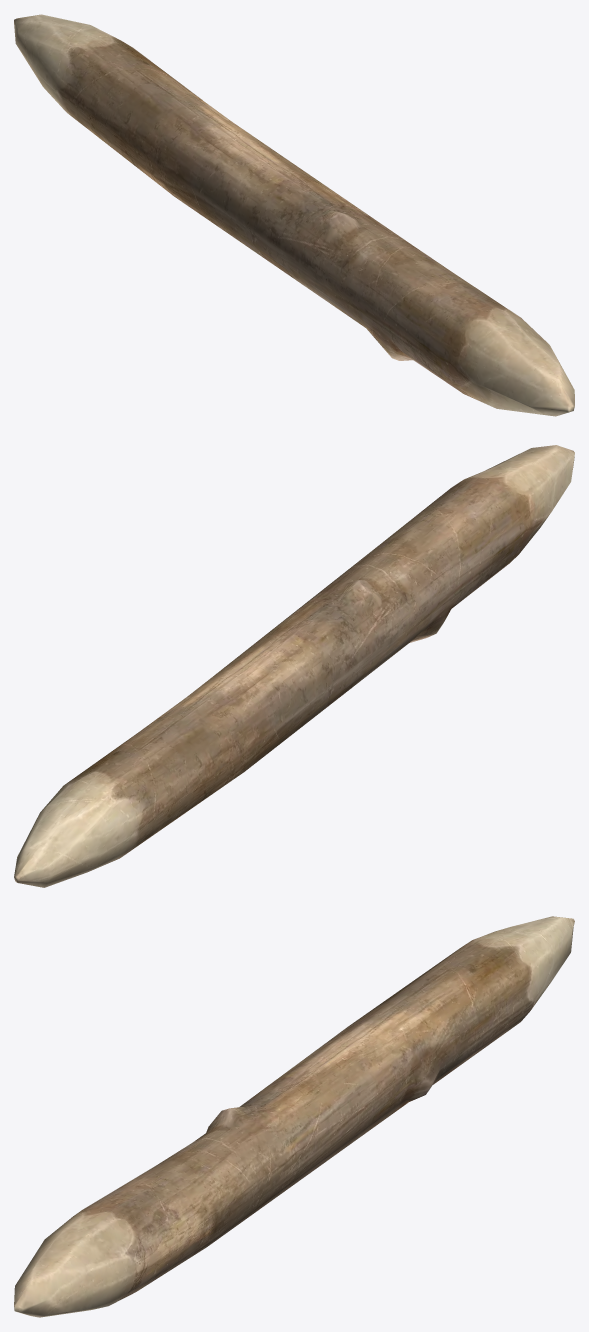
3 renders of one model, top to bottom at view 1: azimuth 30°, elevation 25°; view 2: azimuth 150°, elevation 25°; view 3: azimuth 330°, elevation 25°, orthographic.
Parts seen in each view (by area): view 1: SM_Garou_Set_SM_Log_01_LOD0; view 2: SM_Garou_Set_SM_Log_01_LOD0; view 3: SM_Garou_Set_SM_Log_01_LOD0.
Part boxes in pixels (x1,y1,x2,y2): SM_Garou_Set_SM_Log_01_LOD0: (14, 14, 574, 416); SM_Garou_Set_SM_Log_01_LOD0: (14, 445, 574, 887); SM_Garou_Set_SM_Log_01_LOD0: (14, 916, 574, 1317).
Bounding box in the file's own units: 0.3672 × 0.3929 × 3.9.
Materials: 1 (1 with a texture image).
